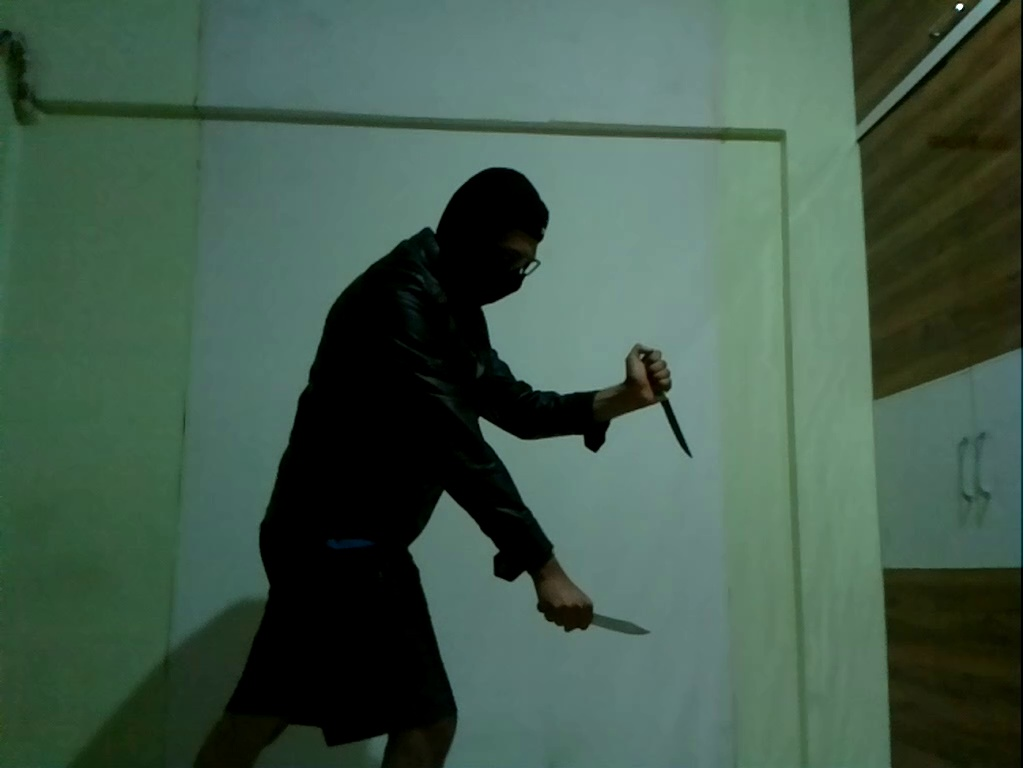knife: (573, 604, 657, 643), (651, 388, 697, 459)
